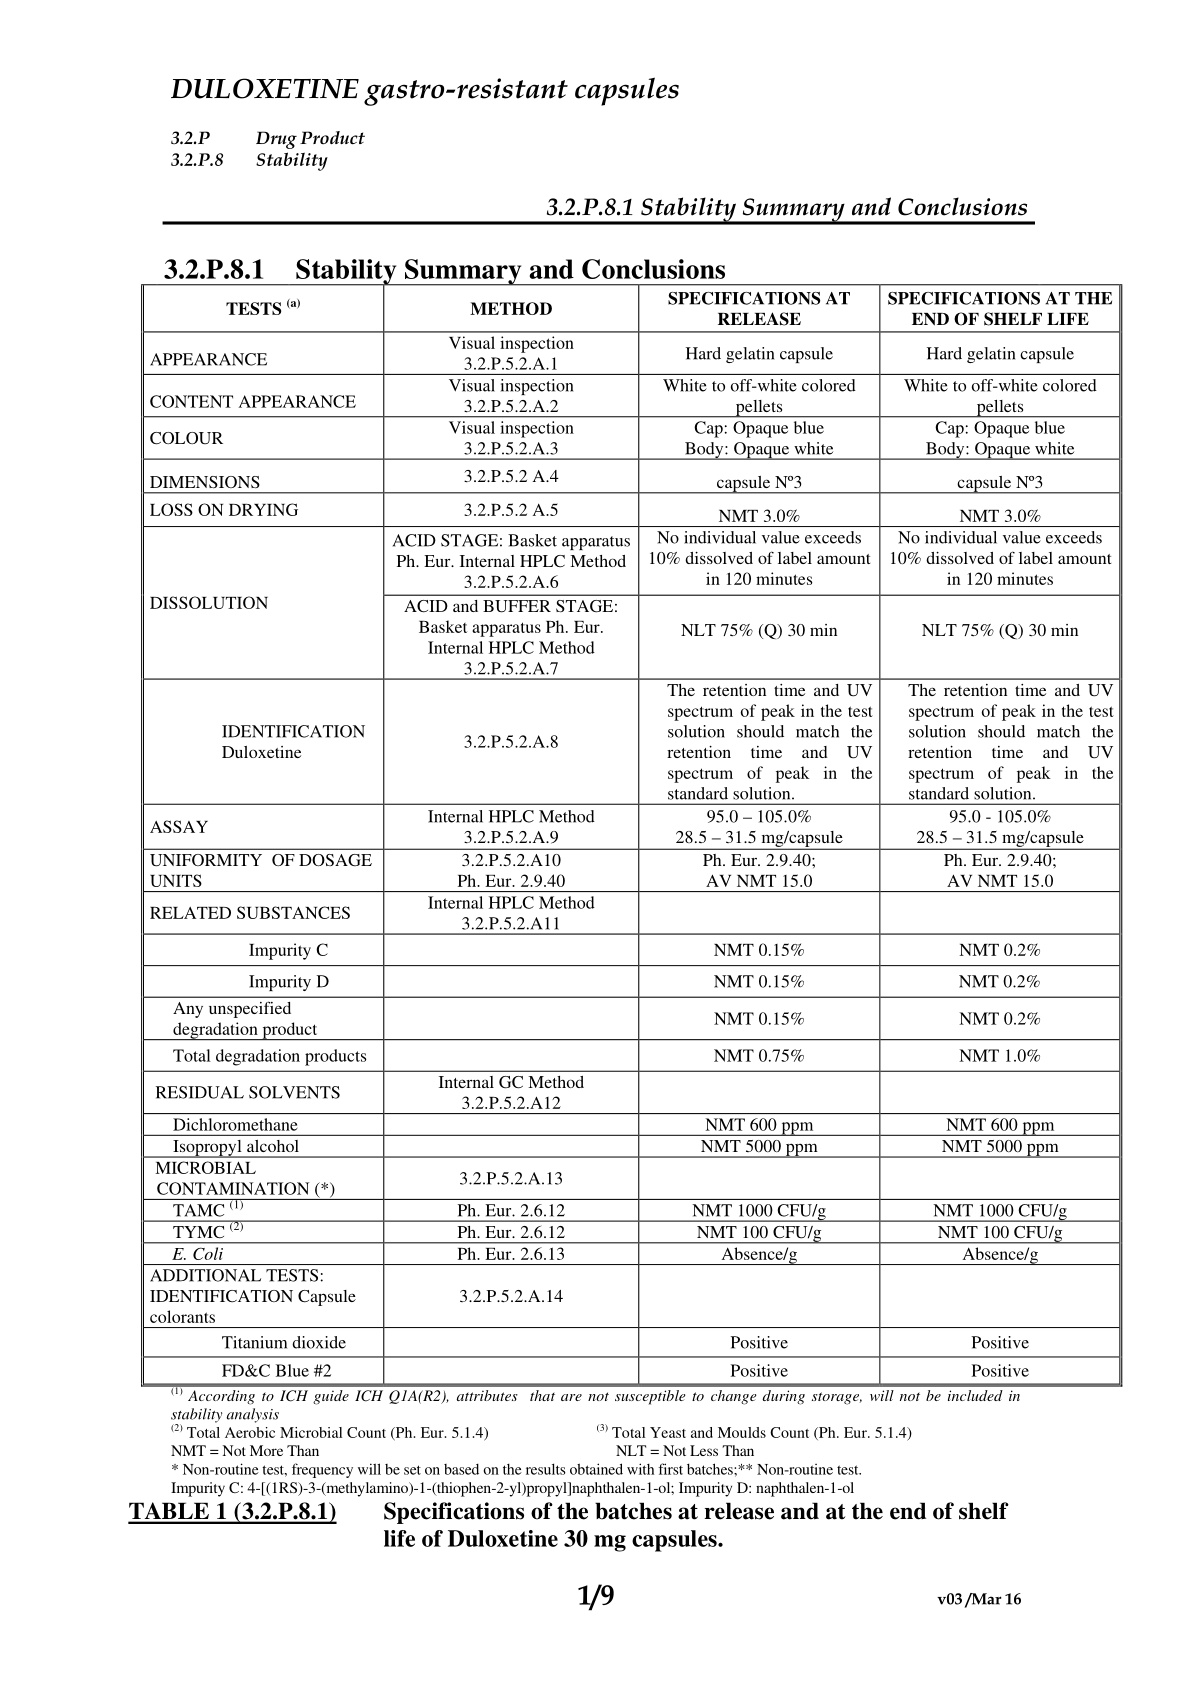merged_cells: (140, 283, 1125, 1388)
